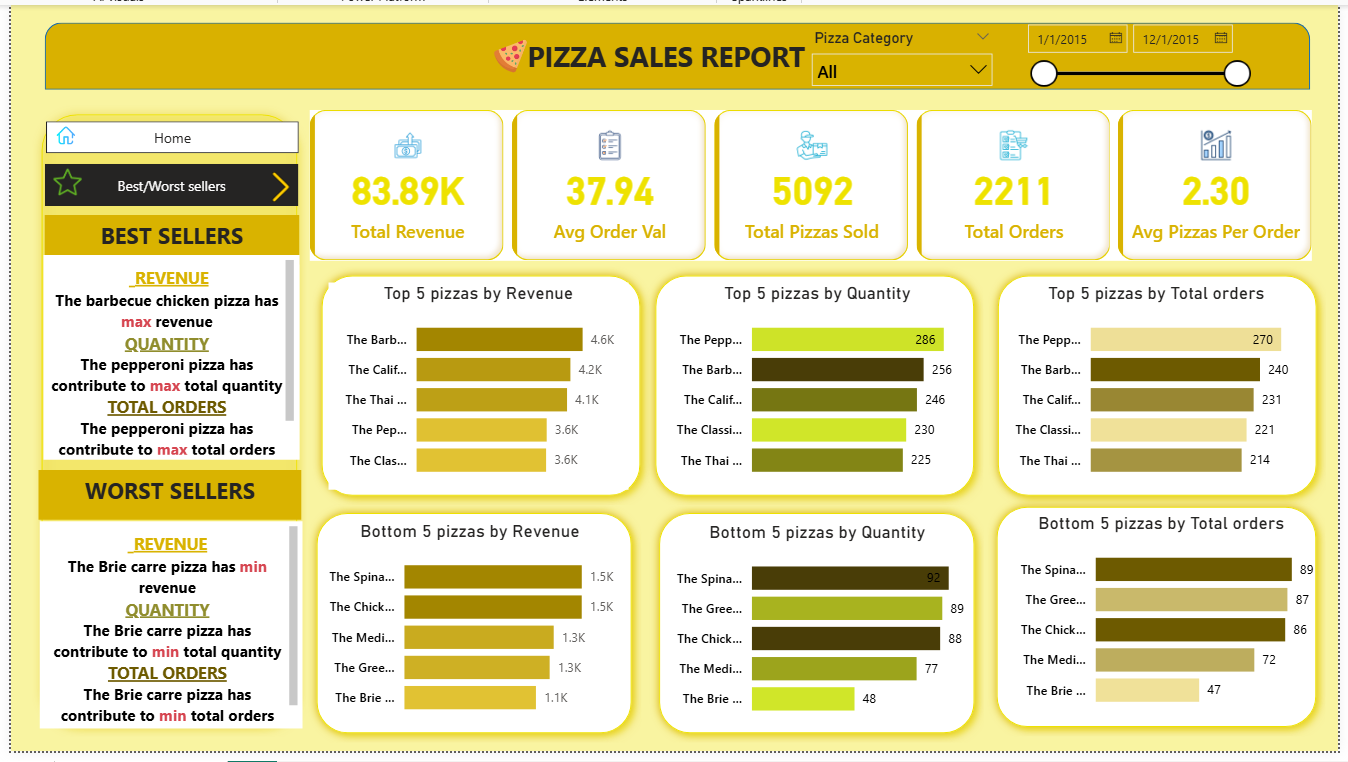

Layout of this report page (visuals, bound fields, positions):
{"tool":"powerbi","page":{"name":"Best/Worst sellers","canvas":[1280,720],"ordinal":1},"visuals":[{"type":"shape","box":[20.6,96.1,264.8,609.3],"z":0},{"type":"cardVisual","fields":{"Data":["pizza_orders pizza_orders.Total Revenue","pizza_orders pizza_orders.Avg Order Val","pizza_orders pizza_orders.Total Pizzas Sold","pizza_orders pizza_orders.Total Orders","pizza_orders pizza_orders.Avg Pizzas Per Order"]},"box":[284,96.1,981.1,155.1],"z":1000},{"type":"shape","box":[32.9,16.5,1221.3,65],"z":2000},{"type":"textbox","box":[494,26.1,281.3,45.3],"z":3000},{"type":"image","box":[461.1,26.1,42.5,45.3],"z":4000},{"type":"shape","box":[616.1,481.6,322.5,230.5],"z":5000},{"type":"shape","box":[942.7,474.8,326.6,230.5],"z":6000},{"type":"textbox","box":[32.9,203.1,245.6,48],"z":7000},{"type":"textbox","box":[31.6,241.5,247,197.6],"z":8000},{"type":"textbox","box":[26.1,448.7,253.9,48],"z":9000},{"type":"textbox","box":[27.4,498.1,253.9,200.3],"z":10000},{"type":"slicer","fields":{"Values":["pizza_orders pizza_orders.pizza_category"]},"box":[763,17.8,194.9,64.5],"z":11000},{"type":"slicer","fields":{"Values":["pizza_orders pizza_orders.order_date"]},"box":[968.8,8.2,236,87.8],"z":12000},{"type":"shape","box":[285.9,481.4,322.1,230.4],"z":13000},{"type":"shape","box":[943.4,252.1,325.7,230.4],"z":14000},{"type":"shape","box":[612.9,252.1,325.7,230.4],"z":15000},{"type":"shape","box":[290.8,252.1,325.7,230.4],"z":16000},{"type":"barChart","title":"Top 5 pizzas by Revenue","fields":{"Y":["pizza_orders pizza_orders.Total Revenue"],"Category":["pizza_orders pizza_orders.pizza_name"]},"box":[306,267.6,289.5,200.3],"z":17000},{"type":"barChart","title":"Bottom 5 pizzas by Revenue","fields":{"Y":["pizza_orders pizza_orders.Total Revenue"],"Category":["pizza_orders pizza_orders.pizza_name"]},"box":[290.9,496.7,304.6,200.3],"z":18000},{"type":"barChart","title":"Top 5 pizzas by Quantity","fields":{"Category":["pizza_orders pizza_orders.pizza_name"],"Y":["pizza_orders pizza_orders.Total Pizzas Sold"]},"box":[625.7,267.6,304.6,200.3],"z":19000},{"type":"barChart","title":"Bottom 5 pizzas by Quantity","fields":{"Category":["pizza_orders pizza_orders.pizza_name"],"Y":["pizza_orders pizza_orders.Total Pizzas Sold"]},"box":[625.7,498.1,304.6,200.3],"z":20000},{"type":"barChart","title":"Top 5 pizzas by Total orders","fields":{"Category":["pizza_orders pizza_orders.pizza_name"],"Y":["pizza_orders pizza_orders.Total Orders"]},"box":[953.7,267.6,304.6,200.3],"z":21000},{"type":"barChart","title":"Bottom 5 pizzas by Total orders","fields":{"Category":["pizza_orders pizza_orders.pizza_name"],"Y":["pizza_orders pizza_orders.Total Orders"]},"box":[957.8,489.9,304.6,200.3],"z":22000},{"type":"pageNavigator","box":[32.9,153.7,245.6,41.2],"z":23000},{"type":"pageNavigator","box":[34.3,112.5,244.3,31.6],"z":24000},{"type":"image","box":[241.5,145.5,38.4,59],"z":25000},{"type":"image","box":[34.3,112.5,38.4,27.4],"z":26000},{"type":"image","box":[35.7,145.5,37,49.4],"z":27000}]}

Visuals, with their boxes on the page's 1280x720 design canvas (x1, y1, x2, y2). These are canvas units, not pixel positions in the 1348x762 screenshot, which may show the page scaled, cropped or inside an application window:
shape: select_region(21, 96, 285, 705)
cardVisual - pizza_orders pizza_orders.Total Revenue x pizza_orders pizza_orders.Avg Order Val: select_region(284, 96, 1265, 251)
shape: select_region(33, 16, 1254, 82)
textbox: select_region(494, 26, 775, 71)
image: select_region(461, 26, 504, 71)
shape: select_region(616, 482, 939, 712)
shape: select_region(943, 475, 1269, 705)
textbox: select_region(33, 203, 278, 251)
textbox: select_region(32, 242, 279, 439)
textbox: select_region(26, 449, 280, 497)
textbox: select_region(27, 498, 281, 698)
slicer - pizza_orders pizza_orders.pizza_category: select_region(763, 18, 958, 82)
slicer - pizza_orders pizza_orders.order_date: select_region(969, 8, 1205, 96)
shape: select_region(286, 481, 608, 712)
shape: select_region(943, 252, 1269, 482)
shape: select_region(613, 252, 939, 482)
shape: select_region(291, 252, 616, 482)
"Top 5 pizzas by Revenue" barChart: select_region(306, 268, 596, 468)
"Bottom 5 pizzas by Revenue" barChart: select_region(291, 497, 596, 697)
"Top 5 pizzas by Quantity" barChart: select_region(626, 268, 930, 468)
"Bottom 5 pizzas by Quantity" barChart: select_region(626, 498, 930, 698)
"Top 5 pizzas by Total orders" barChart: select_region(954, 268, 1258, 468)
"Bottom 5 pizzas by Total orders" barChart: select_region(958, 490, 1262, 690)
pageNavigator: select_region(33, 154, 278, 195)
pageNavigator: select_region(34, 112, 279, 144)
image: select_region(242, 146, 280, 204)
image: select_region(34, 112, 73, 140)
image: select_region(36, 146, 73, 195)
